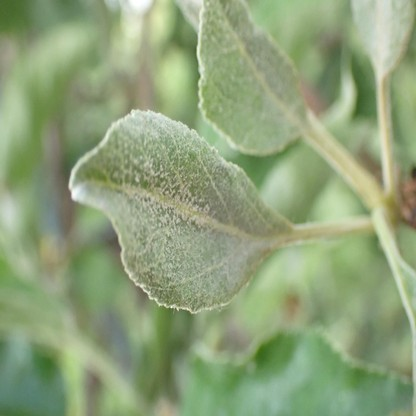powder: (70, 109, 283, 313), (198, 1, 307, 155), (350, 0, 415, 77)
